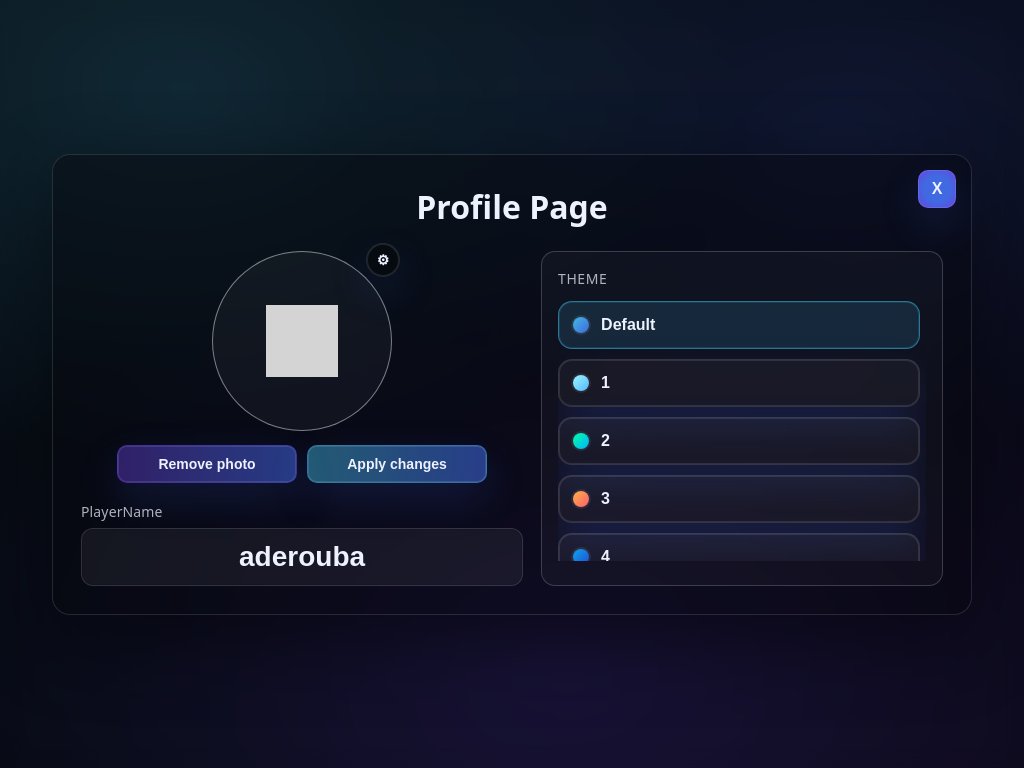
Test: Profile page › save in localStorage / cookies
Replace the text in the field showing "aderouba" with "NewName": (302, 556) [81, 528, 523, 586]
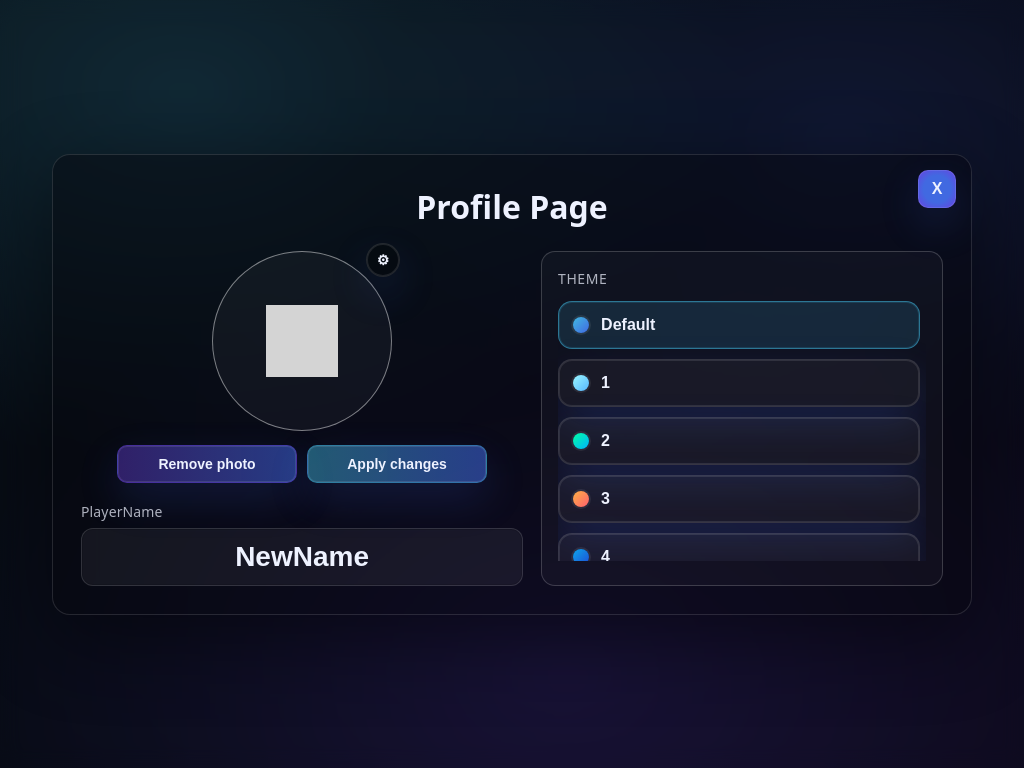
Click the button "4": click(581, 556) [558, 532, 920, 580]
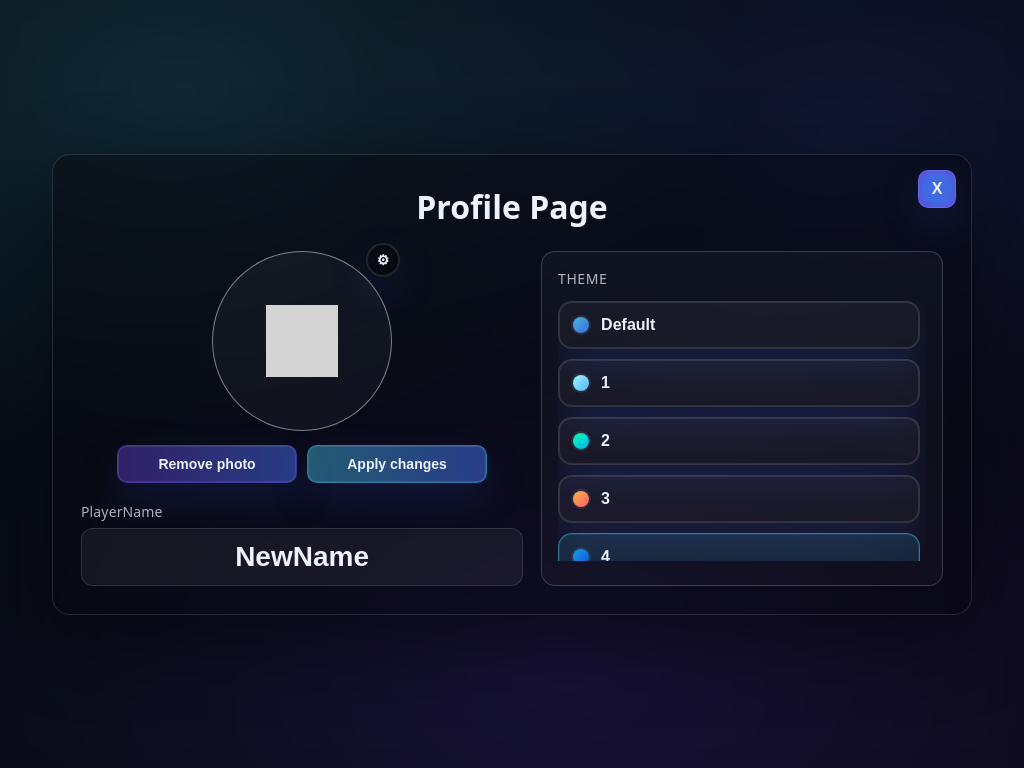
Click the button "Apply changes": click(397, 464) [307, 444, 487, 482]
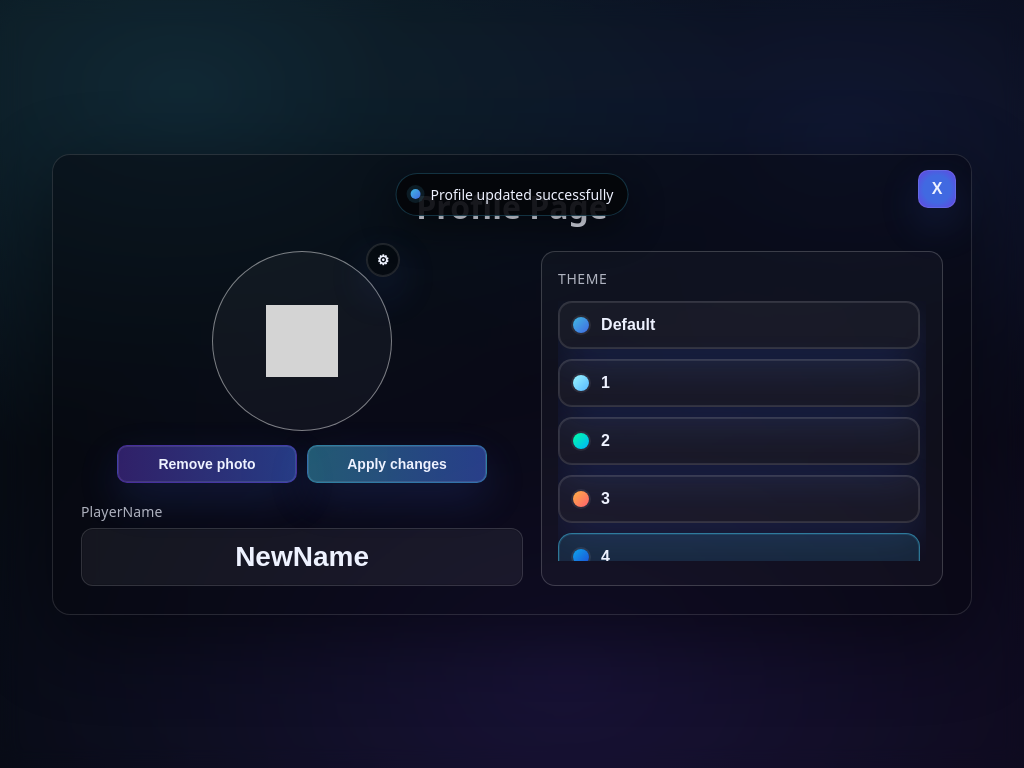
Check: the text "Profile updated successfully" is shown, box [431, 184, 614, 204]
